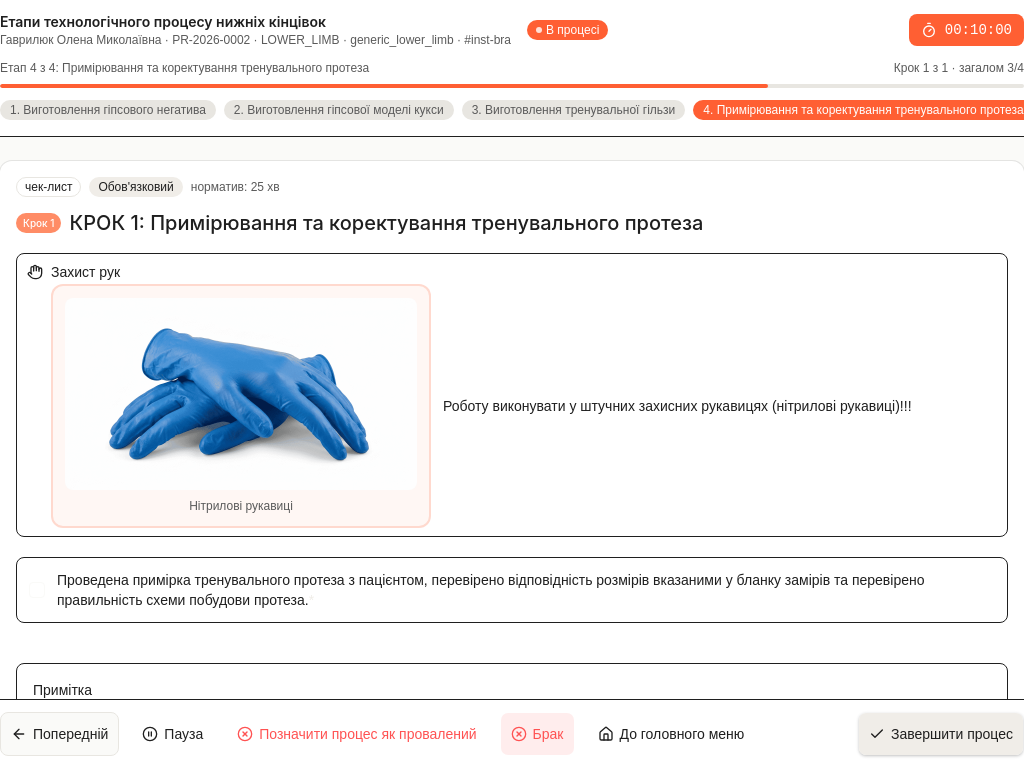
Test: WizardScreen — Брак › confirm opens stage-selection dialog
The image size is (1024, 768).
Click the button "Брак": [537, 734] box [500, 712, 574, 756]
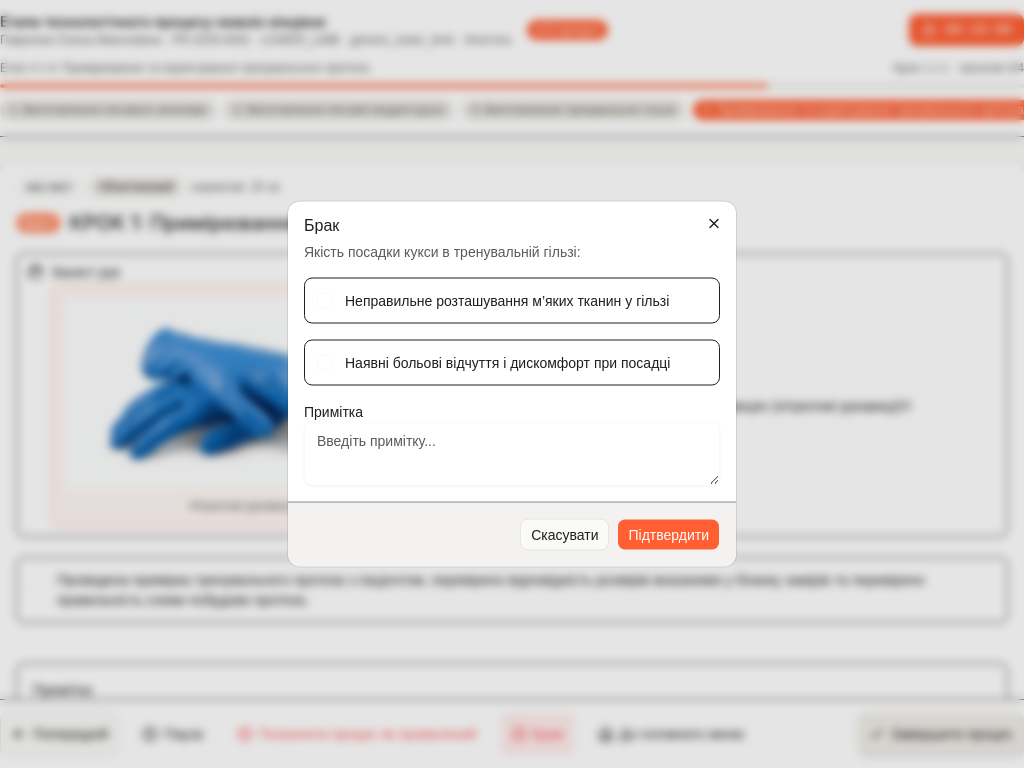
Expected: the text "Якість посадки кукси в тренувальній гільзі:" is shown, [304, 244, 581, 260]
Click the button "Підтвердити": [669, 534] box [618, 518, 720, 550]
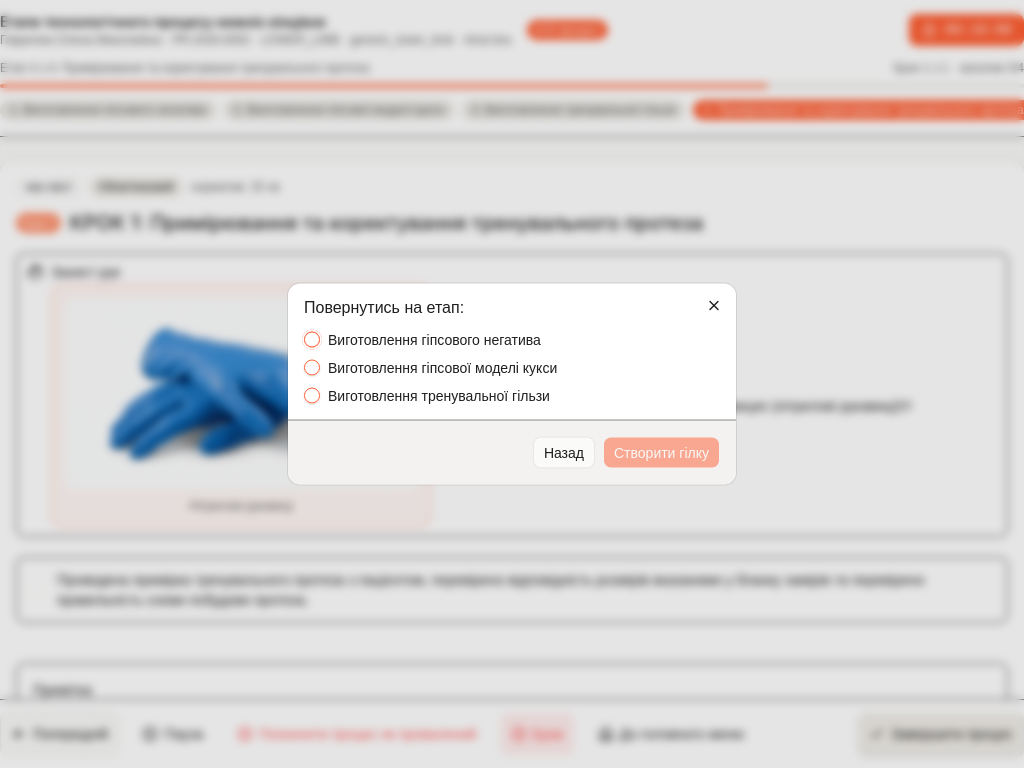
Expected: the heading "Повернутись на етап:" is shown, [304, 298, 464, 316]
